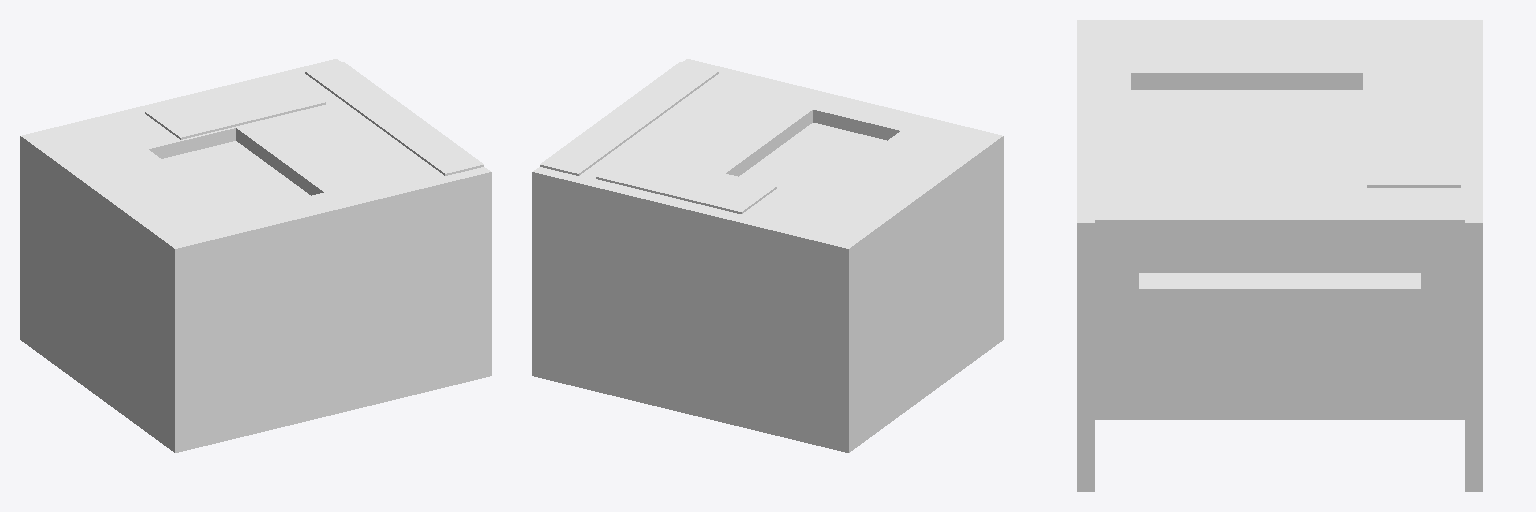
The robot description file, URDF, robot "printer":
<?xml version="1.0" ?>
<robot name="printer">
  <link name="printer">
    <inertial>
      <origin xyz="0 0 0" rpy="0 0 0" />
      <mass value="10."/>
      <inertia ixx="1" ixy="0" ixz="0"
        iyy="1" iyz="0" izz="1" />
    </inertial>
    <visual>
      <geometry>
        <mesh filename="package://mc_int_obj_description/meshes/printer/printer.stl" />
      </geometry>
      <material name="default">
        <color rgba="1.0 1.0 1.0 1" />
      </material>
    </visual>
  </link>

  <link name="rack">
    <inertial>
      <origin xyz="0 0 0" rpy="0 0 0" />
      <mass value="1."/>
      <inertia ixx="1" ixy="0" ixz="0"
        iyy="1" iyz="0" izz="1" />
    </inertial>
    <visual>
      <geometry>
        <mesh filename="package://mc_int_obj_description/meshes/printer/rack.stl" />
      </geometry>
      <material name="Material">
        <color rgba="0.800000011920929 0.800000011920929 0.800000011920929 1" />
      </material>
    </visual>
  </link>

  <joint name="rack" type="prismatic">
    <parent link="printer" />
    <child link="rack" />
    <origin rpy="0.0 0.0 0.0" xyz="0.07800000160932541 0.0 -0.10999999940395355" />
    <axis xyz="1 0 0"/>
    <limit effort="0" lower="-0.02" upper="0.2" velocity="100" />
  </joint>
</robot>

--- Facts derived from the render (not from the file) ---
Views: 3 orthographic renders of the robot side by side, from view 1: azimuth 30°, elevation 25°; view 2: azimuth 150°, elevation 25°; view 3: azimuth 270°, elevation 25°.
Robot: printer — 2 links, 1 joints (1 prismatic); root link printer; default pose: every joint at zero.
Visible links, largest first — view 1: printer; view 2: printer; view 3: printer.
Boxes of the visible links, x1,y1,x2,y2 form: printer: [20, 59, 491, 452]; printer: [532, 59, 1003, 452]; printer: [1077, 20, 1482, 491].
Bounding box of the posed robot: 0.486 × 0.412 × 0.3032 m (x, y, z).
1 mesh visuals loaded from 2 distinct referenced files (1 binary STL); not drawn: 1 (reference not matched to a file when rendering).